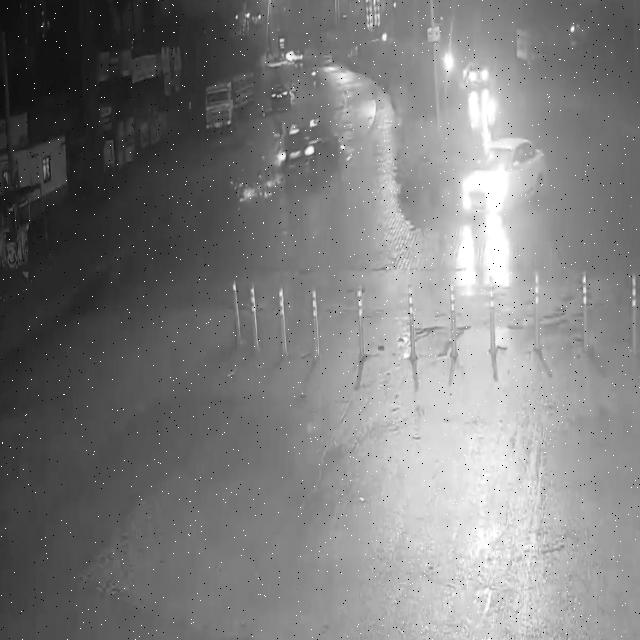accident: (228, 112, 350, 228)
